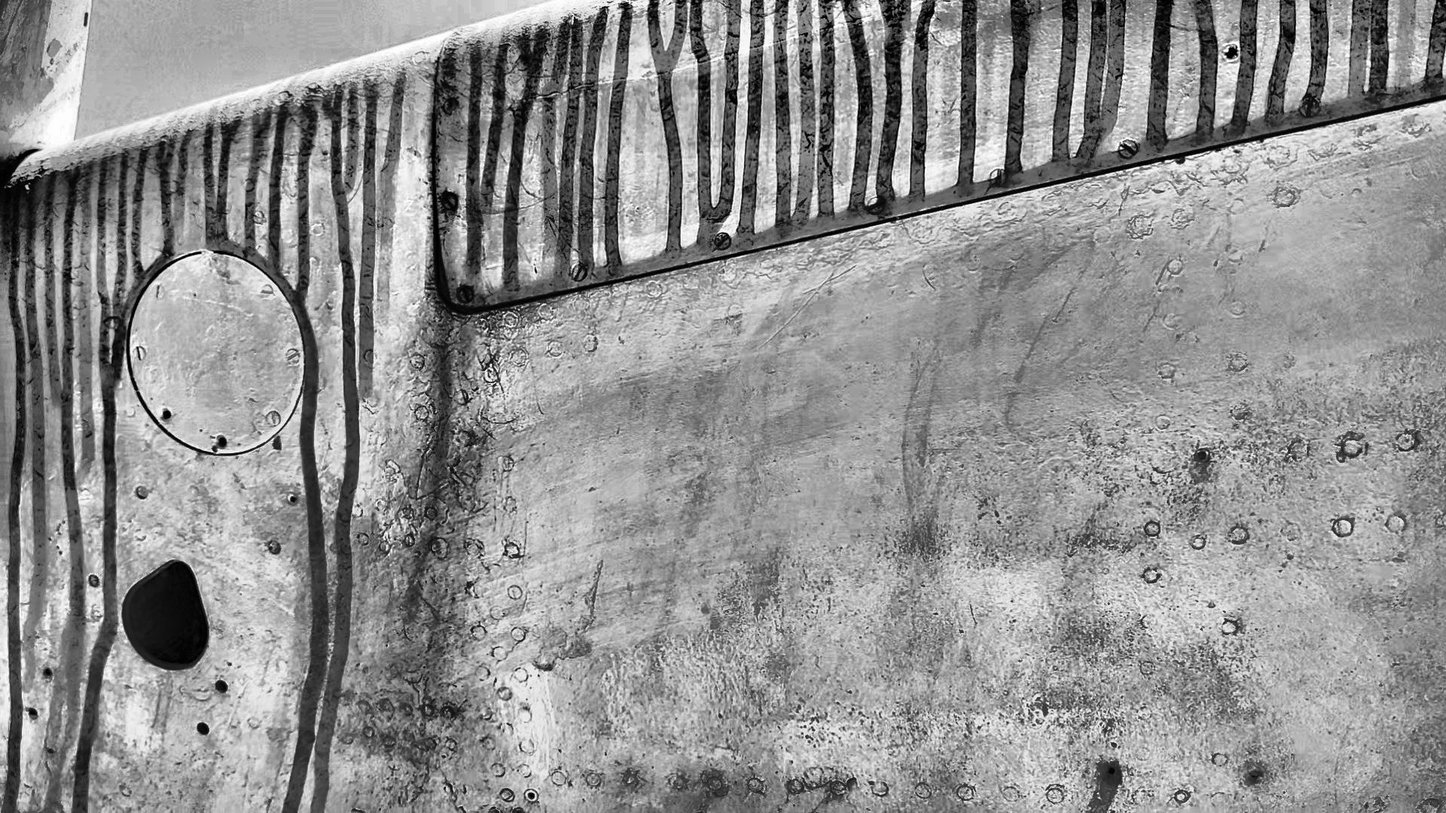missing-head: (523, 787, 538, 805), (215, 434, 227, 449), (286, 492, 297, 504), (160, 410, 172, 420)
